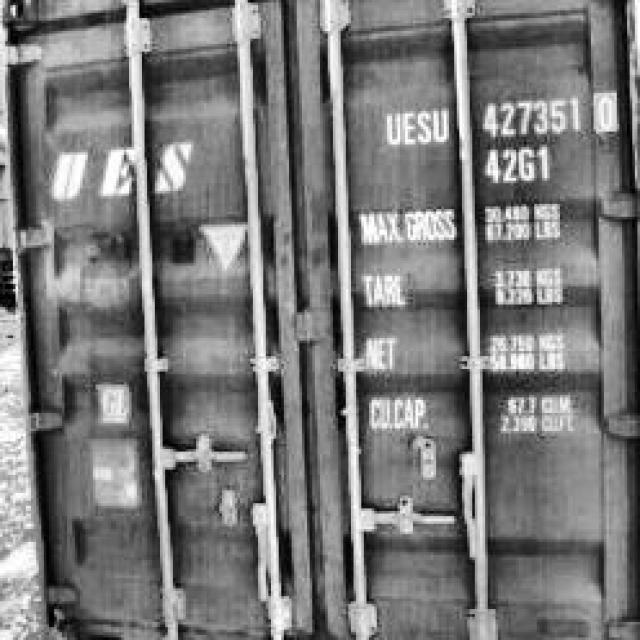ISO: (485, 142, 557, 184)
container_number: (378, 95, 624, 137)
